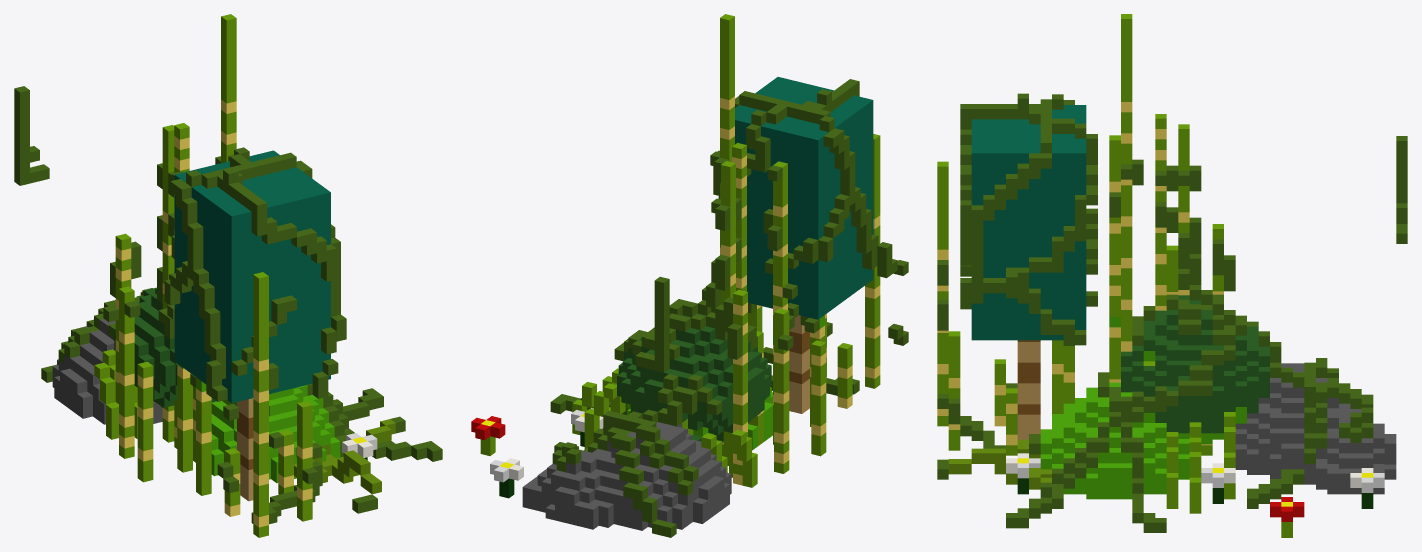
The model's file is tiles 0 morceau 2.obj.
3 views of the same model, side by side, from view 1: azimuth 30°, elevation 25°; view 2: azimuth 150°, elevation 25°; view 3: azimuth 270°, elevation 25° (orthographic). The views are drawn at different scales.
Parts seen in each view (by area): view 1: tiles 0 morceau 2; view 2: tiles 0 morceau 2; view 3: tiles 0 morceau 2.
Part boxes in pixels (left/top/right/bottom): tiles 0 morceau 2: left=14, top=14, right=442, bottom=537; tiles 0 morceau 2: left=471, top=14, right=908, bottom=537; tiles 0 morceau 2: left=937, top=14, right=1407, bottom=537.
Size of the model in its own units: 28 by 42 by 41.
Materials: 1 (1 with a texture image).
